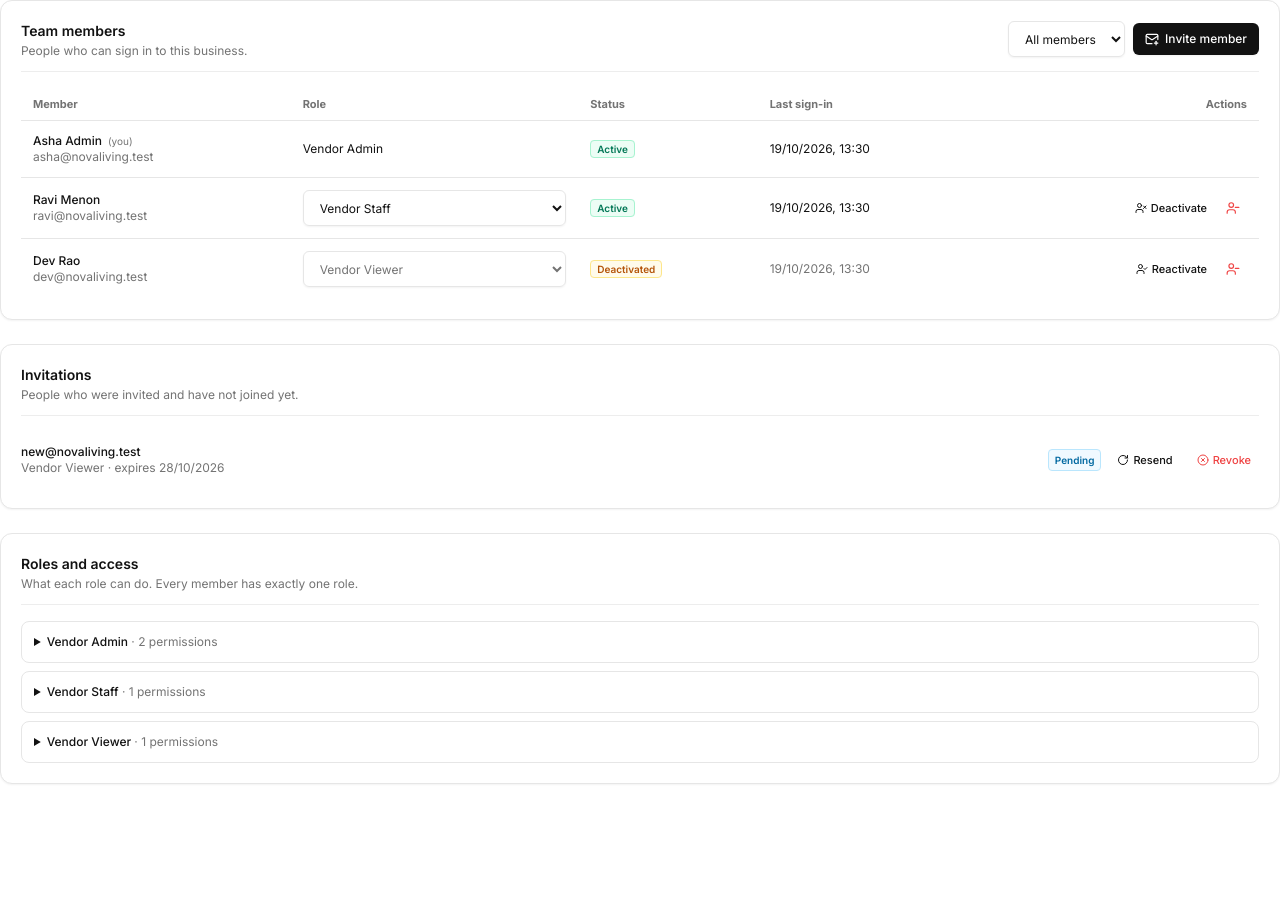
TeamTab › explains a refused invitation
Click the button "Invite member": [1196, 39] box [1133,23,1259,55]
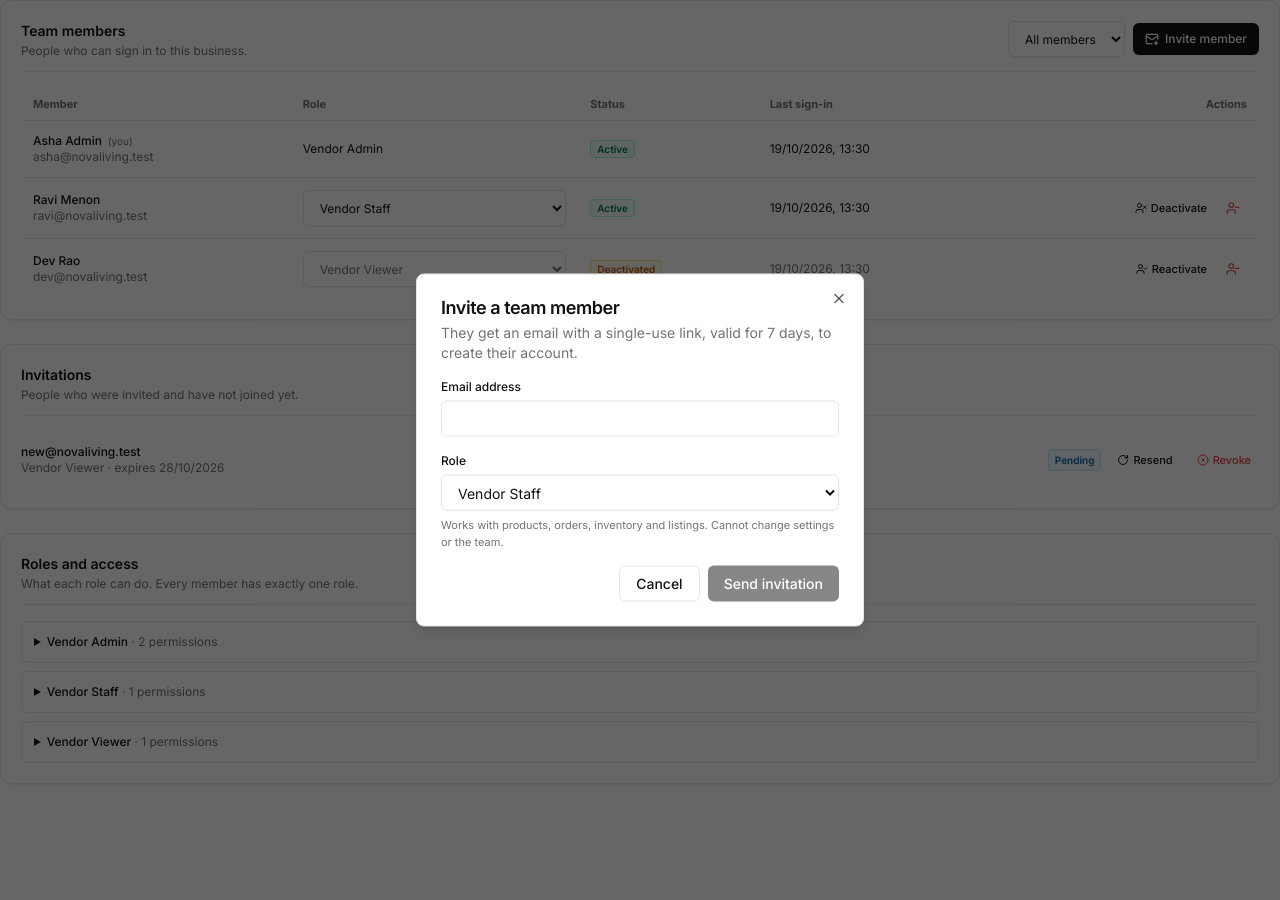
In the field labelled "Email address": [640, 418] box [441,400,839,436], type "priya@novaliving.test"
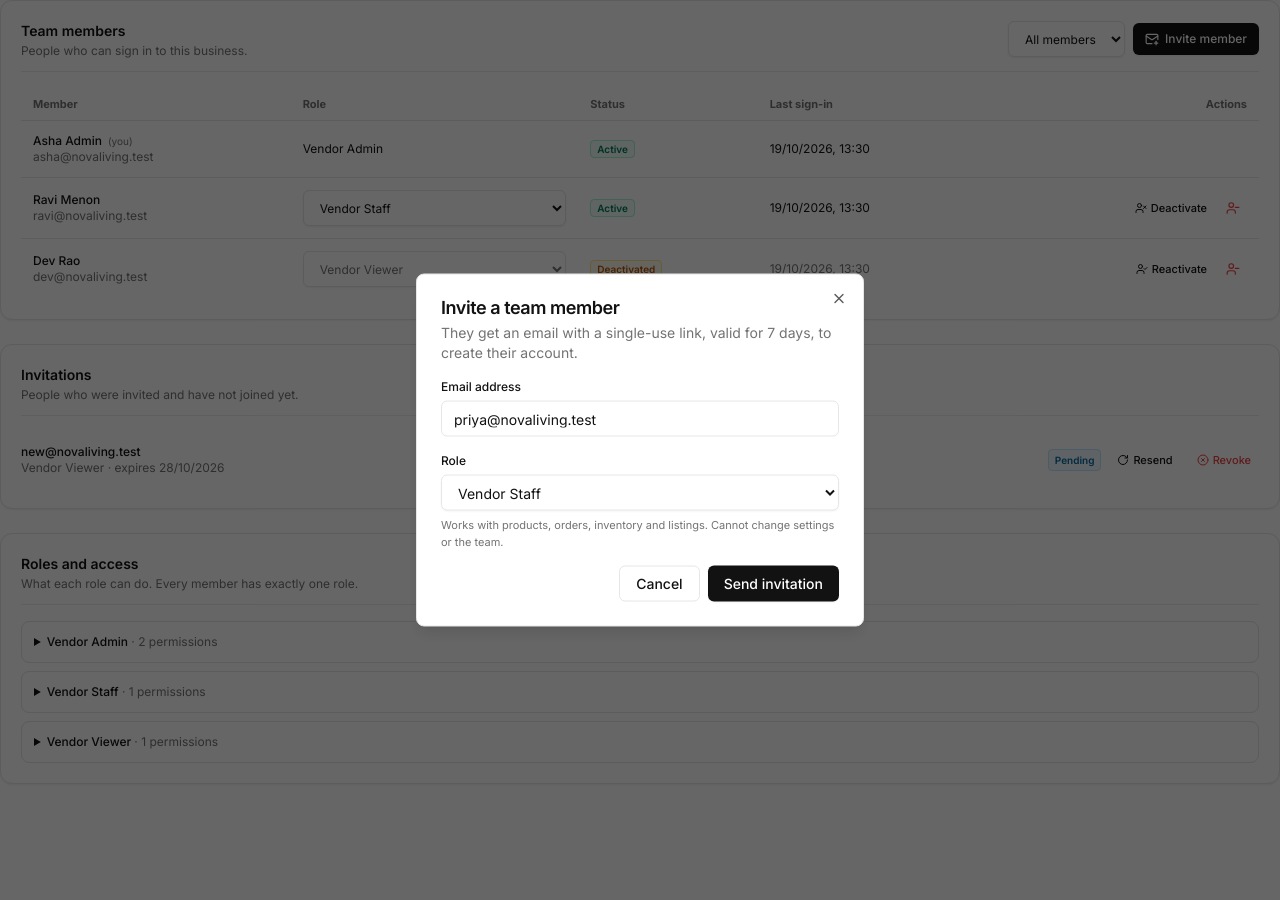
Click the button "Send invitation": [773, 584] box [708,566,839,602]
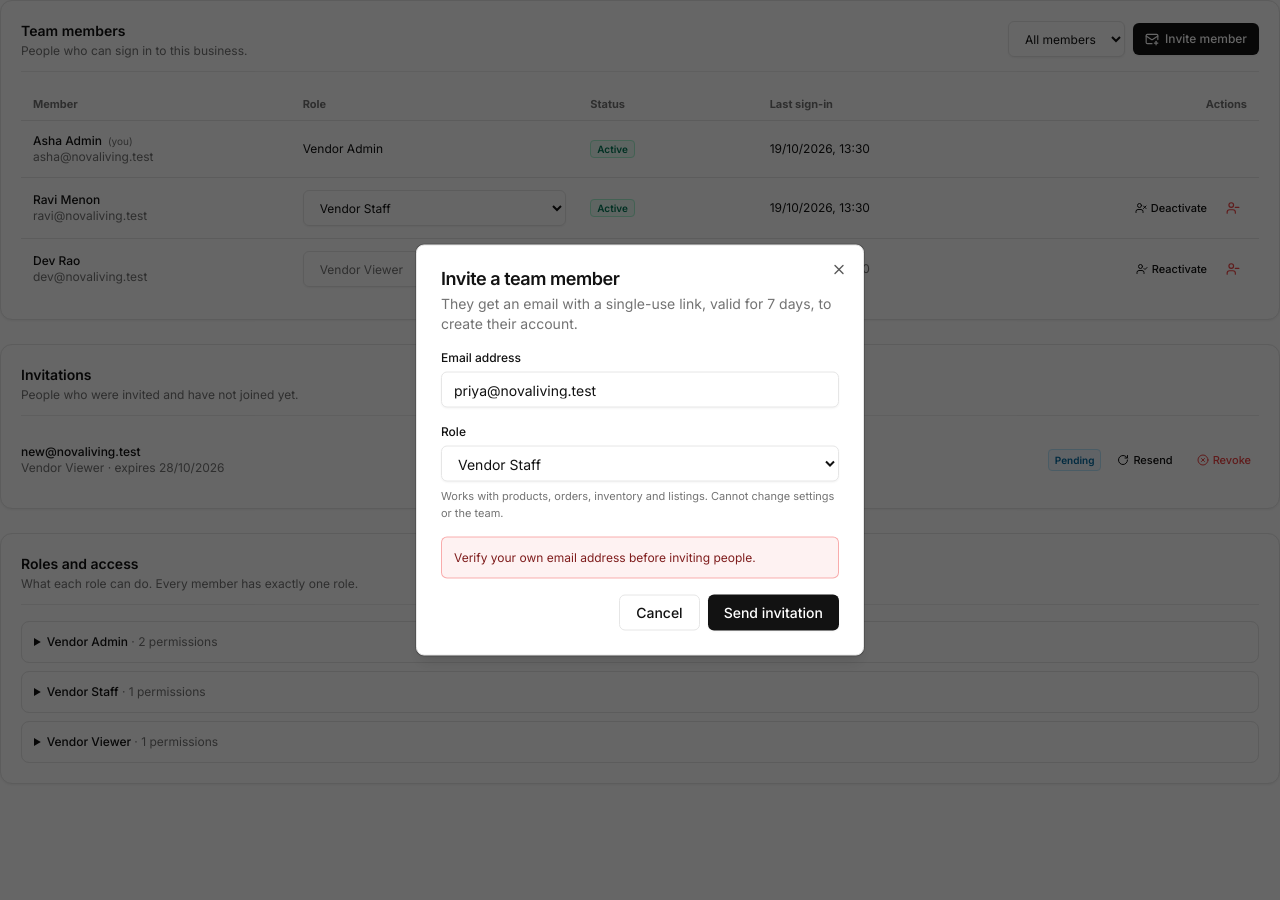
Result: the text "Verify your own email address before inviting people." is shown at [441,536,839,578]
